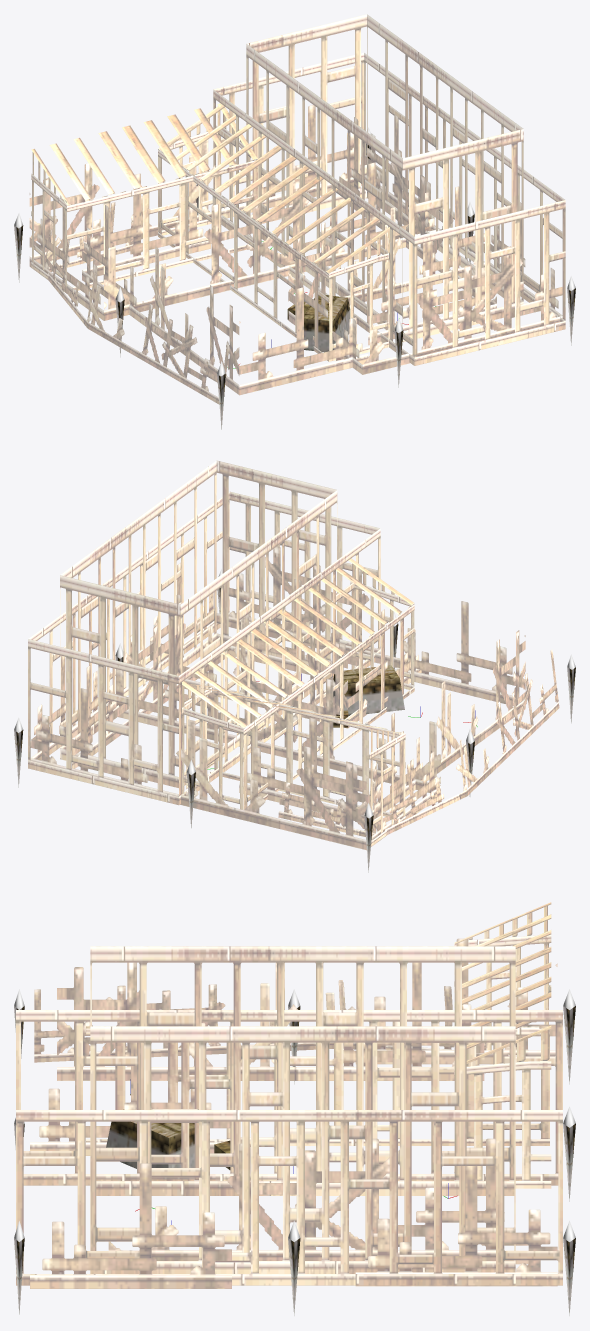
Rendered from construction-c.glb.
The picture shows the model from 3 angles, top to bottom: view 1: azimuth 30°, elevation 25°; view 2: azimuth 150°, elevation 25°; view 3: azimuth 270°, elevation 25°; orthographic projection. The views are drawn at different scales.
Visible parts, largest first — view 1: building g constructionstableModel; view 2: building g constructionstableModel; view 3: building g constructionstableModel.
Boxes of the visible parts, x1=… form: building g constructionstableModel: x1=14, y1=14, x2=575, y2=429; building g constructionstableModel: x1=14, y1=460, x2=575, y2=872; building g constructionstableModel: x1=14, y1=902, x2=575, y2=1315.
Size of the model in its own units: 8.41 by 4.43 by 8.16.
Materials: 4 (2 with a texture image).
